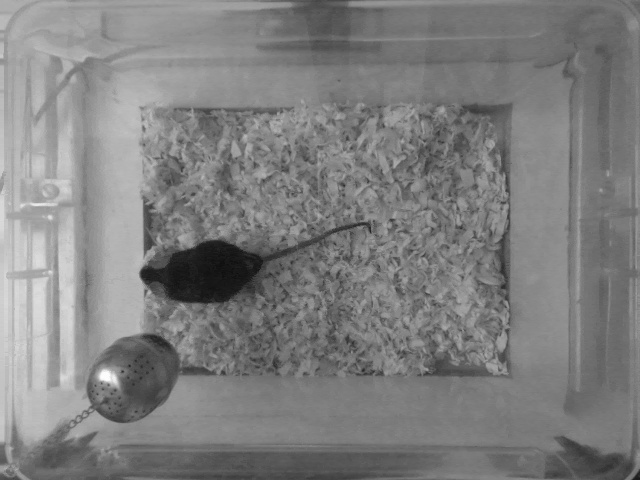mice: (129, 217, 372, 303)
